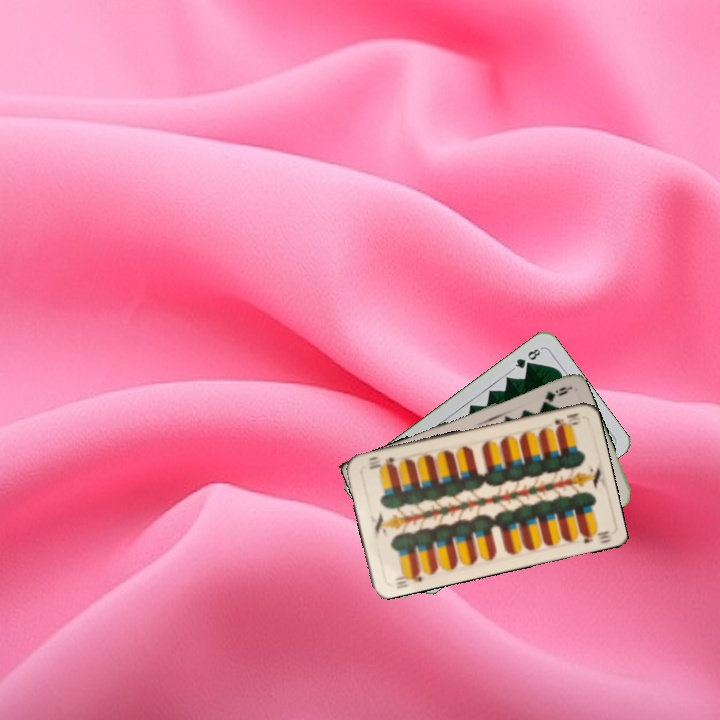E10: (390, 566, 425, 592), (551, 409, 582, 431)
G8: (509, 344, 544, 372)
G9: (541, 383, 572, 403)
